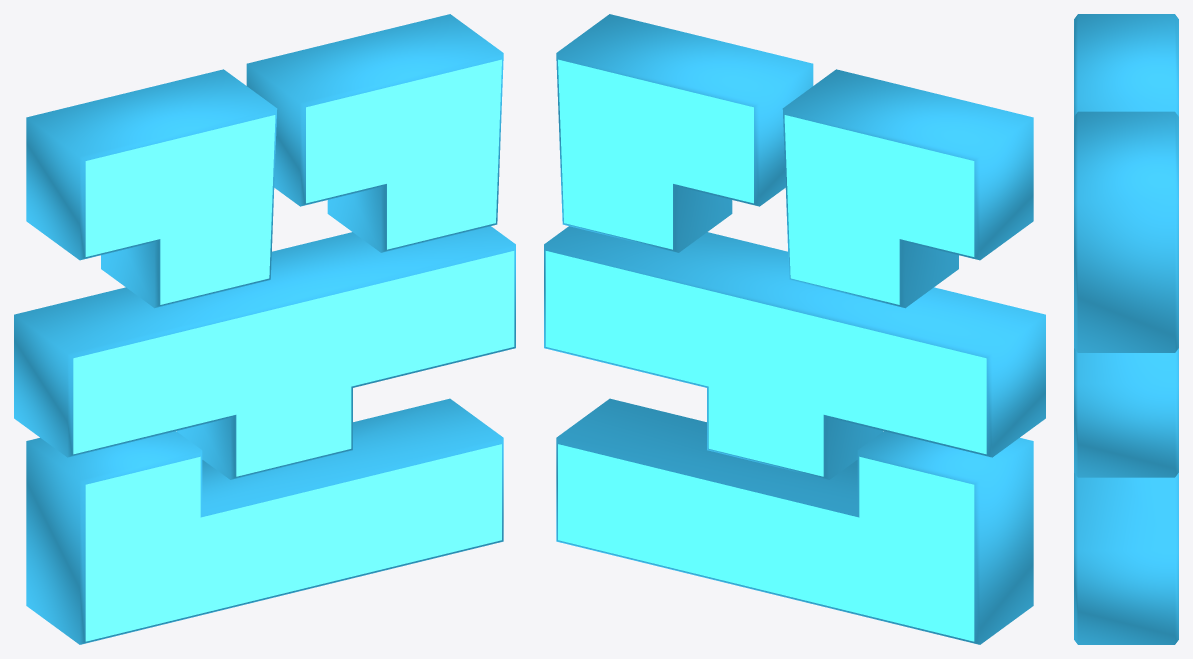
The model's file is u_afbc_b.glb.
3 views of the same model, side by side, from view 1: azimuth 30°, elevation 25°; view 2: azimuth 150°, elevation 25°; view 3: azimuth 270°, elevation 25° (orthographic). The views are drawn at different scales.
Visible parts, largest first — view 1: glyph; view 2: glyph; view 3: glyph.
Boxes of the visible parts, bbox=[...] form: glyph: bbox=[14, 14, 515, 644]; glyph: bbox=[544, 14, 1045, 644]; glyph: bbox=[1074, 14, 1178, 644].
Bounding box in the file's own units: 0.0726 × 0.0756 × 0.0162.
